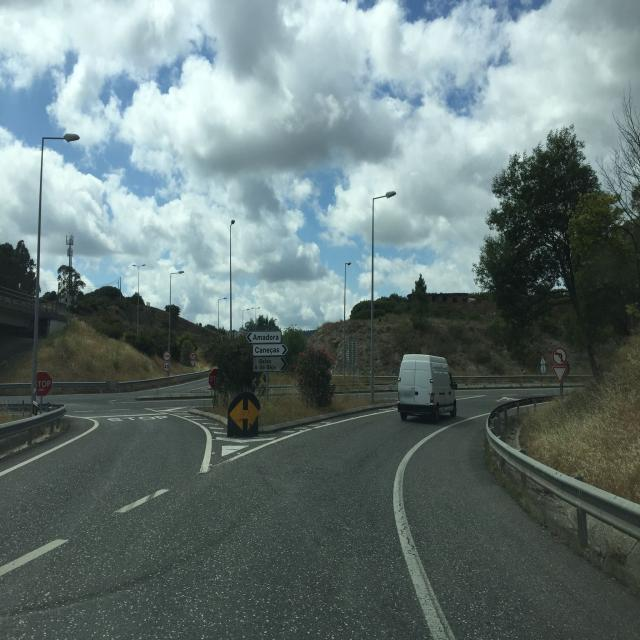car: (397, 353, 458, 422)
